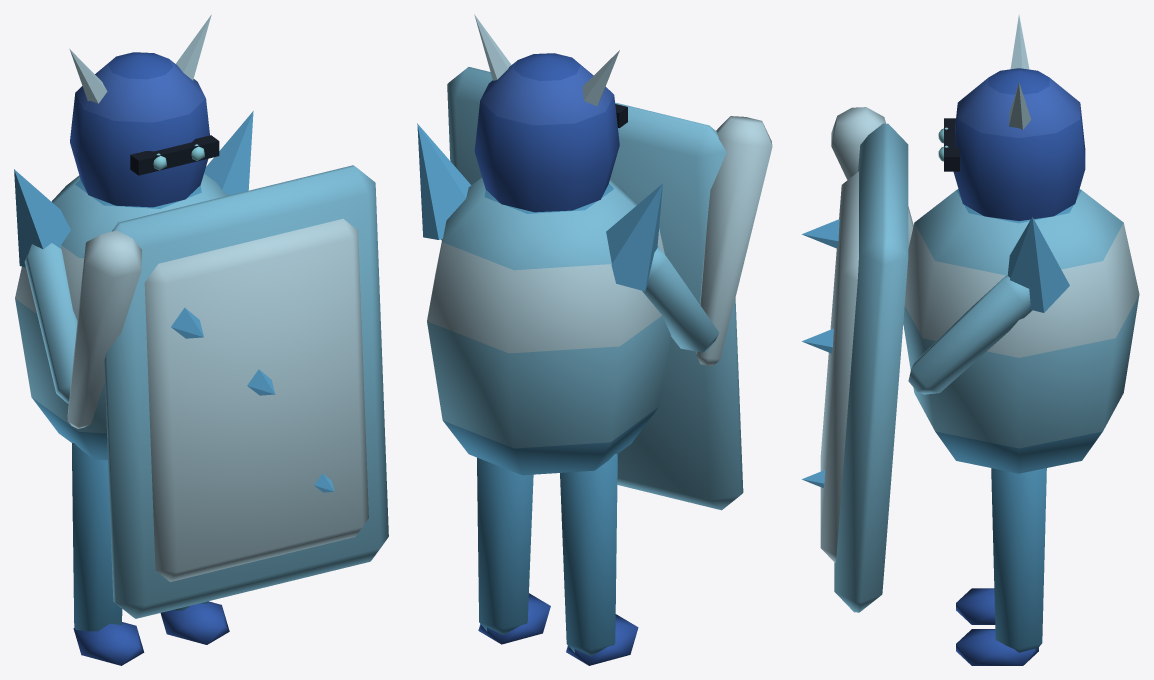
Rendered from e_eis_schildwall.glb.
The picture shows the model from 3 angles, left to right: view 1: azimuth 30°, elevation 25°; view 2: azimuth 150°, elevation 25°; view 3: azimuth 270°, elevation 25°; orthographic projection. The views are drawn at different scales.
Parts seen in each view (by area): view 1: body; view 2: body; view 3: body.
Part boxes in pixels (bbox=[...]): body: bbox=[14, 14, 388, 665]; body: bbox=[417, 14, 772, 665]; body: bbox=[802, 14, 1139, 665].
Bounding box in the file's own units: 1.27 × 2.45 × 1.26.
